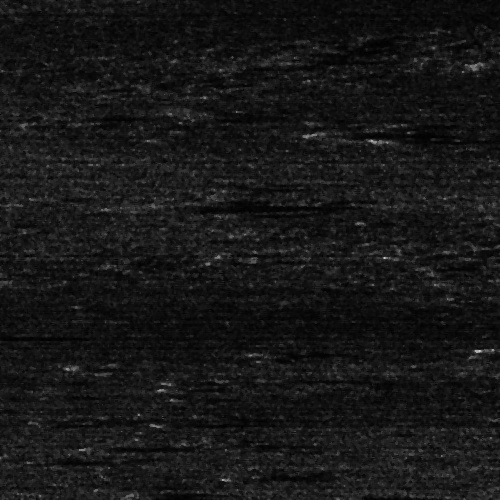object: (297, 126, 370, 139), (357, 132, 420, 145), (222, 496, 315, 500), (0, 330, 28, 339), (460, 345, 500, 350), (492, 220, 500, 225)
shadow: (334, 126, 477, 139), (389, 132, 498, 145), (269, 496, 500, 500), (0, 330, 96, 339), (156, 203, 325, 206)
